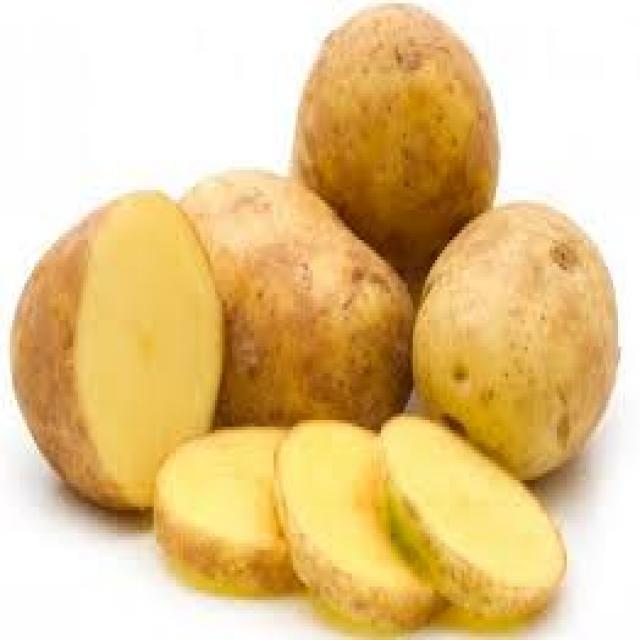organic waste: (7, 193, 220, 507), (176, 160, 410, 430), (291, 0, 496, 297), (408, 197, 616, 480), (366, 410, 562, 620), (271, 414, 447, 624), (152, 424, 300, 594)
